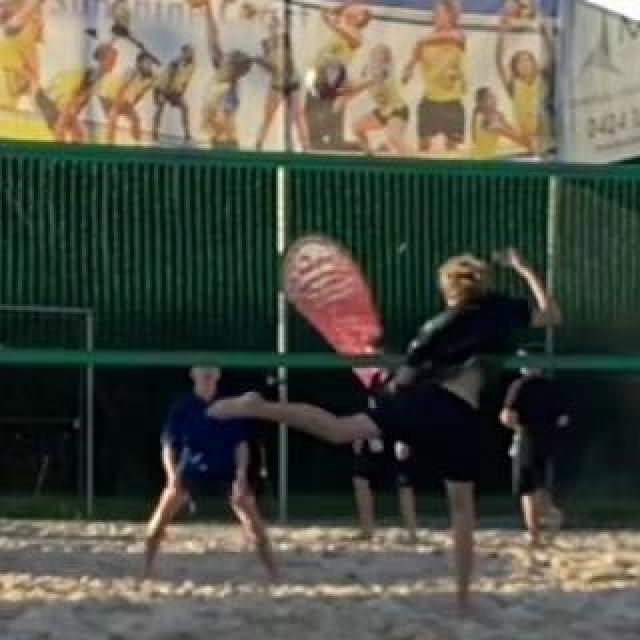volleyball: (302, 58, 348, 102)
